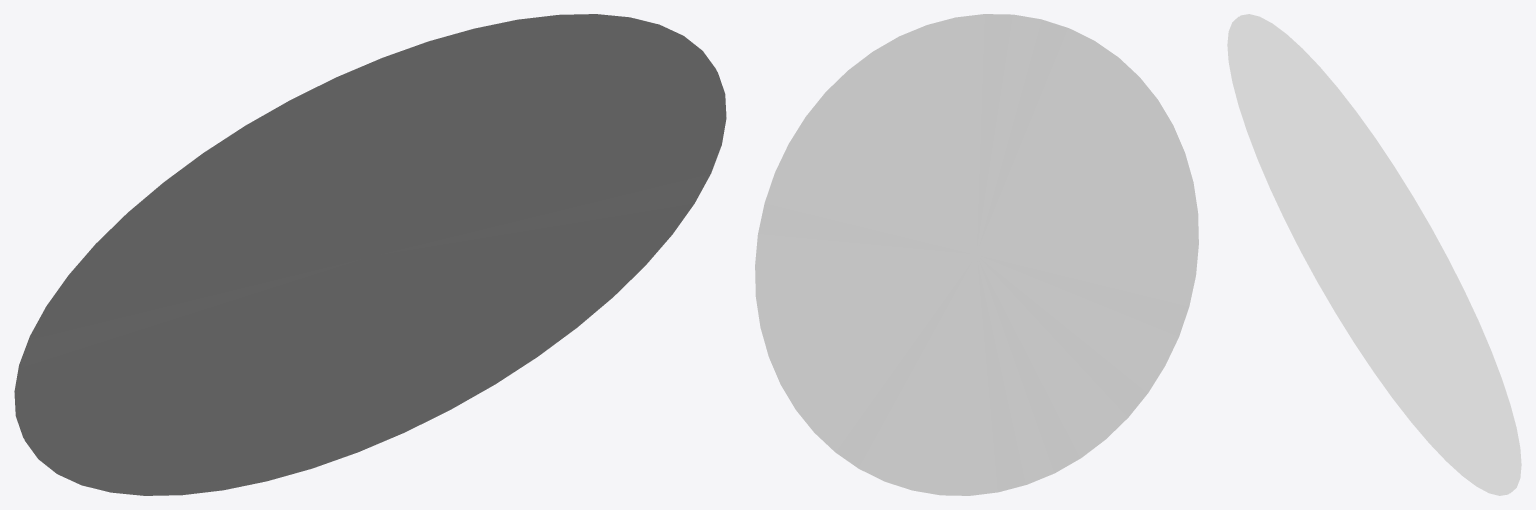
File: Radial_Light.FBX
3 renders of one model, left to right at view 1: azimuth 30°, elevation 25°; view 2: azimuth 150°, elevation 25°; view 3: azimuth 270°, elevation 25°, orthographic. The views are drawn at different scales.
Visible parts, largest first — view 1: RadialLight; view 2: RadialLight; view 3: RadialLight.
Boxes of the visible parts, bbox=[...] form: RadialLight: bbox=[14, 14, 726, 495]; RadialLight: bbox=[755, 14, 1198, 495]; RadialLight: bbox=[1227, 14, 1521, 495].
Bounding box in the file's own units: 4.02 × 3.41 × 2.15.
